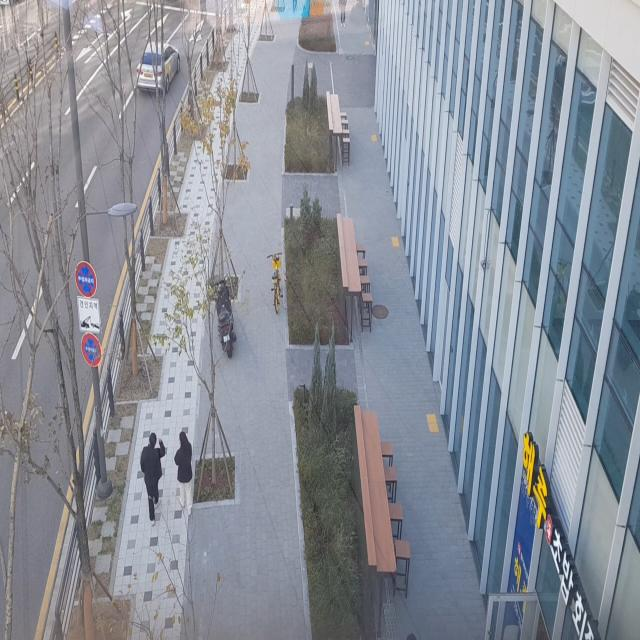Car: (133, 32, 184, 100)
